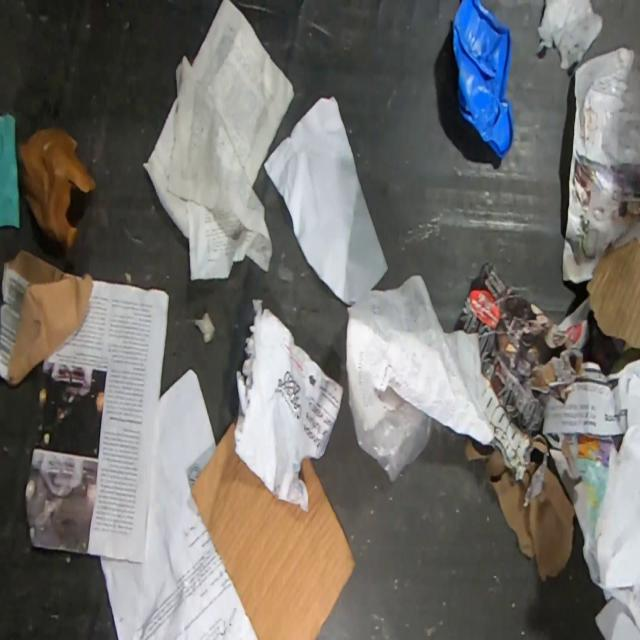cardboard: (191, 421, 356, 639), (0, 249, 93, 387), (589, 238, 640, 351)
rigid_plastic: (451, 0, 515, 159)
soft_plastic: (346, 368, 432, 484), (0, 114, 20, 228)
